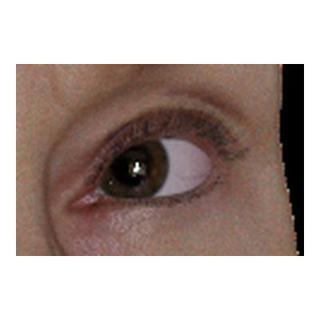pupil: (111, 146, 148, 184)
